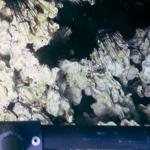dead: (6, 5, 146, 119)
